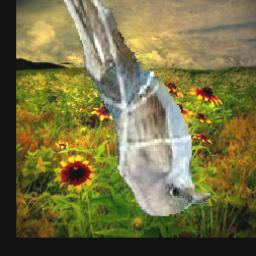Cuckoo: (59, 0, 211, 217)
